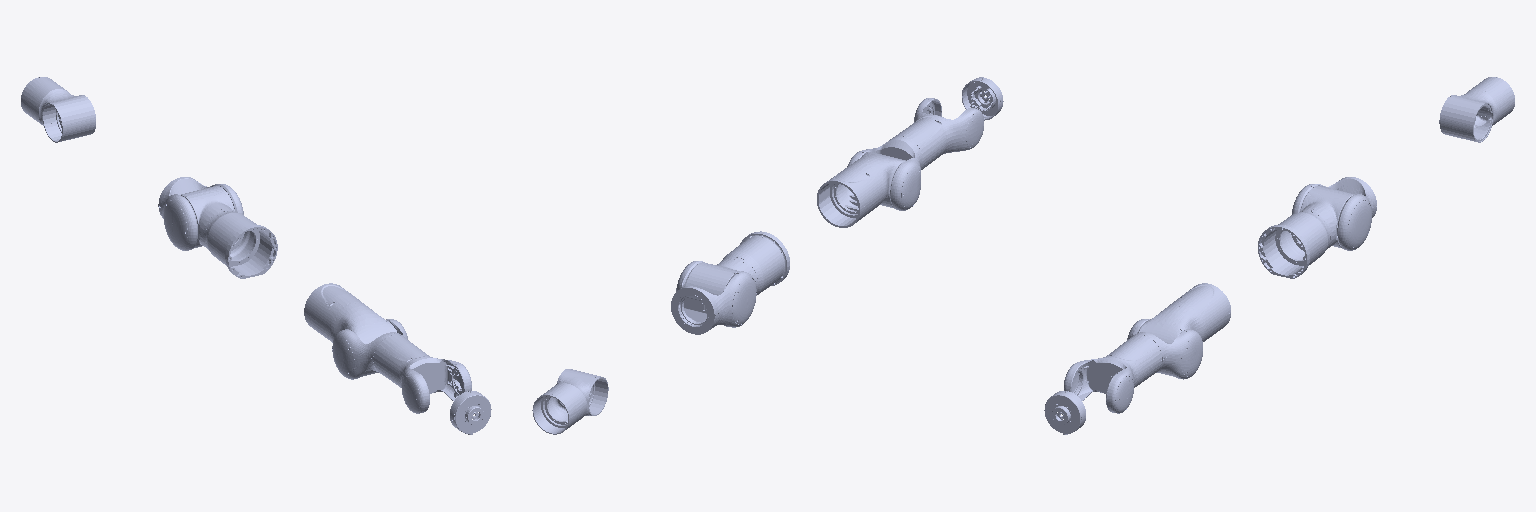
robot.urdf — codroidRobot:
<?xml version="1.0" ?>
<!-- =================================================================================== -->
<!-- |    This document was autogenerated by xacro from dualarm.xacro                  | -->
<!-- |    EDITING THIS FILE BY HAND IS NOT RECOMMENDED                                 | -->
<!-- =================================================================================== -->
<robot name="codroidRobot">
  <link name="world"/>
  <link name="left_base_link">
    <inertial>
      <origin rpy="0 0 0" xyz="-0.00008820 -0.00038610 0.06184223"/>
      <mass value="1.52097968"/>
      <inertia ixx="0.00236033" ixy="0.00000938" ixz=" 0.00001521" iyy="0.00236054" iyz="0.00002150" izz="0.00235699"/>
    </inertial>
    <visual>
      <origin rpy="0 0 0" xyz="0 0 0"/>
      <geometry>
        <mesh filename="package://meshes/left_base_link.STL"/>
      </geometry>
      <material name="">
        <color rgba="0.792156862745098 0.819607843137255 0.933333333333333 1"/>
      </material>
    </visual>
    <collision>
      <origin rpy="0 0 0" xyz="0 0 0"/>
      <geometry>
        <mesh filename="package://meshes/left_base_link.STL"/>
      </geometry>
    </collision>
  </link>
  <link name="left_j1_Link">
    <inertial>
      <origin rpy="0 0 0" xyz=" 0.00000829 0.00244409 -0.02871310"/>
      <mass value="2.47278909"/>
      <inertia ixx="0.00811676" ixy="0.00000215" ixz="-0.00000452" iyy="0.00792991" iyz="0.00017343" izz="0.00374035"/>
    </inertial>
    <visual>
      <origin rpy="0 0 0" xyz="0 0 0"/>
      <geometry>
        <mesh filename="package://meshes/left_j1_Link.STL"/>
      </geometry>
      <material name="">
        <color rgba="0.792156862745098 0.819607843137255 0.933333333333333 1"/>
      </material>
    </visual>
    <collision>
      <origin rpy="0 0 0" xyz="0 0 0"/>
      <geometry>
        <mesh filename="package://meshes/left_j1_Link.STL"/>
      </geometry>
    </collision>
  </link>
  <joint name="left_j1_joint" type="revolute">
    <origin rpy="0 0 0" xyz="0 0 0.195"/>
    <parent link="left_base_link"/>
    <child link="left_j1_Link"/>
    <axis xyz="0 0 1"/>
    <limit effort="0" lower="-3.14" upper="3.14" velocity="0"/>
  </joint>
  <link name="left_j2_Link">
    <inertial>
      <origin rpy="0 0 0" xyz="-0.00001066 0.03722263 -0.01797017"/>
      <mass value="1.41019774"/>
      <inertia ixx="0.00596565" ixy="0.00000102" ixz="0.00000029" iyy="0.00274196" iyz="0.00096784" izz="0.00467860"/>
    </inertial>
    <visual>
      <origin rpy="0 0 0" xyz="0 0 0"/>
      <geometry>
        <mesh filename="package://meshes/left_j2_Link.STL"/>
      </geometry>
      <material name="">
        <color rgba="0.792156862745098 0.819607843137255 0.933333333333333 1"/>
      </material>
    </visual>
    <collision>
      <origin rpy="0 0 0" xyz="0 0 0"/>
      <geometry>
        <mesh filename="package://meshes/left_j2_Link.STL"/>
      </geometry>
    </collision>
  </link>
  <joint name="left_j2_joint" type="revolute">
    <origin rpy="1.5708 0 0" xyz="0 0 0"/>
    <parent link="left_j1_Link"/>
    <child link="left_j2_Link"/>
    <axis xyz="0 0 1"/>
    <limit effort="0" lower="-2.093" upper="2.093" velocity="0"/>
  </joint>
  <link name="left_j3_Link">
    <inertial>
      <origin rpy="0 0 0" xyz="0.00883026 0.00178965 -0.06470772"/>
      <mass value="3.09939936"/>
      <inertia ixx="0.01707605" ixy="0.00005749" ixz=" 0.00183527" iyy="0.01721916" iyz="0.00032649" izz="0.00456819"/>
    </inertial>
    <visual>
      <origin rpy="0 0 0" xyz="0 0 0"/>
      <geometry>
        <mesh filename="package://meshes/left_j3_Link.STL"/>
      </geometry>
      <material name="">
        <color rgba="0.792156862745098 0.819607843137255 0.933333333333333 1"/>
      </material>
    </visual>
    <collision>
      <origin rpy="0 0 0" xyz="0 0 0"/>
      <geometry>
        <mesh filename="package://meshes/left_j3_Link.STL"/>
      </geometry>
    </collision>
  </link>
  <joint name="left_j3_joint" type="revolute">
    <origin rpy="-1.5708 0 0" xyz="0 0.2725 0"/>
    <parent link="left_j2_Link"/>
    <child link="left_j3_Link"/>
    <axis xyz="0 0 1"/>
    <limit effort="0" lower="-3.14" upper="3.14" velocity="0"/>
  </joint>
  <link name="left_j4_Link">
    <inertial>
      <origin rpy="0 0 0" xyz="-0.00971323 0.03818436 -0.00798875"/>
      <mass value="0.98368730"/>
      <inertia ixx="0.00339258" ixy="-0.00037292" ixz="-0.00007746" iyy="0.00197076" iyz="0.00030620" izz="0.00242521"/>
    </inertial>
    <visual>
      <origin rpy="0 0 0" xyz="0 0 0"/>
      <geometry>
        <mesh filename="package://meshes/left_j4_Link.STL"/>
      </geometry>
      <material name="">
        <color rgba="0.792156862745098 0.819607843137255 0.933333333333333 1"/>
      </material>
    </visual>
    <collision>
      <origin rpy="0 0 0" xyz="0 0 0"/>
      <geometry>
        <mesh filename="package://meshes/left_j4_Link.STL"/>
      </geometry>
    </collision>
  </link>
  <joint name="left_j4_joint" type="revolute">
    <origin rpy="1.5708 0 0" xyz="0.02 0 0"/>
    <parent link="left_j3_Link"/>
    <child link="left_j4_Link"/>
    <axis xyz="0 0 1"/>
    <limit effort="0" lower="-2.5294" upper="1.046" velocity="0"/>
  </joint>
  <link name="left_j5_Link">
    <inertial>
      <origin rpy="0 0 0" xyz="-0.00002916 0.00651937 -0.09265504"/>
      <mass value=" 1.45243657"/>
      <inertia ixx="0.00706280" ixy="0.00000071" ixz="-0.00000147" iyy="0.00641601" iyz="0.00095795" izz="0.00205038"/>
    </inertial>
    <visual>
      <origin rpy="0 0 0" xyz="0 0 0"/>
      <geometry>
        <mesh filename="package://meshes/left_j5_Link.STL"/>
      </geometry>
      <material name="">
        <color rgba="0.792156862745098 0.819607843137255 0.933333333333333 1"/>
      </material>
    </visual>
    <collision>
      <origin rpy="0 0 0" xyz="0 0 0"/>
      <geometry>
        <mesh filename="package://meshes/left_j5_Link.STL"/>
      </geometry>
    </collision>
  </link>
  <joint name="left_j5_joint" type="revolute">
    <origin rpy="-1.5708 0 0" xyz="-0.02 0.2596 0"/>
    <parent link="left_j4_Link"/>
    <child link="left_j5_Link"/>
    <axis xyz="0 0 1"/>
    <limit effort="0" lower="-3.14" upper="3.14" velocity="0"/>
  </joint>
  <link name="left_j6_Link">
    <inertial>
      <origin rpy="0 0 0" xyz=" -0.00085791 -0.04359160 0.00242243"/>
      <mass value="1.79923073"/>
      <inertia ixx="0.00549869" ixy="-0.00000933" ixz="0.00000896" iyy="0.00194083" iyz="0.00017593" izz="0.00523894"/>
    </inertial>
    <visual>
      <origin rpy="0 0 0" xyz="0 0 0"/>
      <geometry>
        <mesh filename="package://meshes/left_j6_Link.STL"/>
      </geometry>
      <material name="">
        <color rgba="0.792156862745098 0.819607843137255 0.933333333333333 1"/>
      </material>
    </visual>
    <collision>
      <origin rpy="0 0 0" xyz="0 0 0"/>
      <geometry>
        <mesh filename="package://meshes/left_j6_Link.STL"/>
      </geometry>
    </collision>
  </link>
  <joint name="left_j6_joint" type="revolute">
    <origin rpy="-1.5708 0 0" xyz="0 0 0"/>
    <parent link="left_j5_Link"/>
    <child link="left_j6_Link"/>
    <axis xyz="0 0 1"/>
    <limit effort="0" lower="-1.74" upper="1.74" velocity="0"/>
  </joint>
  <link name="left_j7_Link">
    <inertial>
      <origin rpy="0 0 0" xyz="0.00004614 -0.00011426 -0.02786989"/>
      <mass value="0.35714747"/>
      <inertia ixx="0.00018241" ixy="0.00000145" ixz="-0.00000015" iyy="0.00018443" iyz=" -0.00000032" izz="0.00021747"/>
    </inertial>
    <visual>
      <origin rpy="0 0 0" xyz="0 0 0"/>
      <geometry>
        <mesh filename="package://meshes/left_j7_Link.STL"/>
      </geometry>
      <material name="">
        <color rgba="0.792156862745098 0.819607843137255 0.933333333333333 1"/>
      </material>
    </visual>
    <collision>
      <origin rpy="0 0 0" xyz="0 0 0"/>
      <geometry>
        <mesh filename="package://meshes/left_j7_Link.STL"/>
      </geometry>
    </collision>
  </link>
  <joint name="left_j7_joint" type="revolute">
    <origin rpy="1.5708 0 0" xyz="0 -0.1539 0"/>
    <parent link="left_j6_Link"/>
    <child link="left_j7_Link"/>
    <axis xyz="0 0 1"/>
    <limit effort="0" lower="-3.14" upper="3.14" velocity="0"/>
  </joint>
  <link name="right_base_link">
    <inertial>
      <origin rpy="0 0 0" xyz="-0.00008820 -0.00038610 0.06184223"/>
      <mass value="1.52097968"/>
      <inertia ixx="0.00236033" ixy="0.00000938" ixz=" 0.00001521" iyy="0.00236054" iyz="0.00002150" izz="0.00235699"/>
    </inertial>
    <visual>
      <origin rpy="0 0 0" xyz="0 0 0"/>
      <geometry>
        <mesh filename="package://meshes/right_base_link.STL"/>
      </geometry>
      <material name="">
        <color rgba="0.792156862745098 0.819607843137255 0.933333333333333 1"/>
      </material>
    </visual>
    <collision>
      <origin rpy="0 0 0" xyz="0 0 0"/>
      <geometry>
        <mesh filename="package://meshes/right_base_link.STL"/>
      </geometry>
    </collision>
  </link>
  <link name="right_j1_Link">
    <inertial>
      <origin rpy="0 0 0" xyz=" 0.00000829 0.00244409 -0.02871310"/>
      <mass value="2.47278909"/>
      <inertia ixx="0.00811676" ixy="0.00000215" ixz="-0.00000452" iyy="0.00792991" iyz="0.00017343" izz="0.00374035"/>
    </inertial>
    <visual>
      <origin rpy="0 0 0" xyz="0 0 0"/>
      <geometry>
        <mesh filename="package://meshes/right_j1_Link.STL"/>
      </geometry>
      <material name="">
        <color rgba="0.792156862745098 0.819607843137255 0.933333333333333 1"/>
      </material>
    </visual>
    <collision>
      <origin rpy="0 0 0" xyz="0 0 0"/>
      <geometry>
        <mesh filename="package://meshes/right_j1_Link.STL"/>
      </geometry>
    </collision>
  </link>
  <joint name="right_j1_joint" type="revolute">
    <origin rpy="0 0 0" xyz="0 0 0.195"/>
    <parent link="right_base_link"/>
    <child link="right_j1_Link"/>
    <axis xyz="0 0 1"/>
    <limit effort="0" lower="-3.14" upper="3.14" velocity="0"/>
  </joint>
  <link name="right_j2_Link">
    <inertial>
      <origin rpy="0 0 0" xyz="-0.00001066 0.03722263 -0.01797017"/>
      <mass value="1.41019774"/>
      <inertia ixx="0.00596565" ixy="0.00000102" ixz="0.00000029" iyy="0.00274196" iyz="0.00096784" izz="0.00467860"/>
    </inertial>
    <visual>
      <origin rpy="0 0 0" xyz="0 0 0"/>
      <geometry>
        <mesh filename="package://meshes/right_j2_Link.STL"/>
      </geometry>
      <material name="">
        <color rgba="0.792156862745098 0.819607843137255 0.933333333333333 1"/>
      </material>
    </visual>
    <collision>
      <origin rpy="0 0 0" xyz="0 0 0"/>
      <geometry>
        <mesh filename="package://meshes/right_j2_Link.STL"/>
      </geometry>
    </collision>
  </link>
  <joint name="right_j2_joint" type="revolute">
    <origin rpy="1.5708 0 0" xyz="0 0 0"/>
    <parent link="right_j1_Link"/>
    <child link="right_j2_Link"/>
    <axis xyz="0 0 1"/>
    <limit effort="0" lower="-2.093" upper="2.093" velocity="0"/>
  </joint>
  <link name="right_j3_Link">
    <inertial>
      <origin rpy="0 0 0" xyz="0.00883026 0.00178965 -0.06470772"/>
      <mass value="3.09939936"/>
      <inertia ixx="0.01707605" ixy="0.00005749" ixz=" 0.00183527" iyy="0.01721916" iyz="0.00032649" izz="0.00456819"/>
    </inertial>
    <visual>
      <origin rpy="0 0 0" xyz="0 0 0"/>
      <geometry>
        <mesh filename="package://meshes/right_j3_Link.STL"/>
      </geometry>
      <material name="">
        <color rgba="0.792156862745098 0.819607843137255 0.933333333333333 1"/>
      </material>
    </visual>
    <collision>
      <origin rpy="0 0 0" xyz="0 0 0"/>
      <geometry>
        <mesh filename="package://meshes/right_j3_Link.STL"/>
      </geometry>
    </collision>
  </link>
  <joint name="right_j3_joint" type="revolute">
    <origin rpy="-1.5708 0 0" xyz="0 0.2725 0"/>
    <parent link="right_j2_Link"/>
    <child link="right_j3_Link"/>
    <axis xyz="0 0 1"/>
    <limit effort="0" lower="-3.14" upper="3.14" velocity="0"/>
  </joint>
  <link name="right_j4_Link">
    <inertial>
      <origin rpy="0 0 0" xyz="-0.00971323 0.03818436 -0.00798875"/>
      <mass value="0.98368730"/>
      <inertia ixx="0.00339258" ixy="-0.00037292" ixz="-0.00007746" iyy="0.00197076" iyz="0.00030620" izz="0.00242521"/>
    </inertial>
    <visual>
      <origin rpy="0 0 0" xyz="0 0 0"/>
      <geometry>
        <mesh filename="package://meshes/right_j4_Link.STL"/>
      </geometry>
      <material name="">
        <color rgba="0.792156862745098 0.819607843137255 0.933333333333333 1"/>
      </material>
    </visual>
    <collision>
      <origin rpy="0 0 0" xyz="0 0 0"/>
      <geometry>
        <mesh filename="package://meshes/right_j4_Link.STL"/>
      </geometry>
    </collision>
  </link>
  <joint name="right_j4_joint" type="revolute">
    <origin rpy="1.5708 0 0" xyz="0.02 0 0"/>
    <parent link="right_j3_Link"/>
    <child link="right_j4_Link"/>
    <axis xyz="0 0 1"/>
    <limit effort="0" lower="-2.5294" upper="1.046" velocity="0"/>
  </joint>
  <link name="right_j5_Link">
    <inertial>
      <origin rpy="0 0 0" xyz="-0.00002916 0.00651937 -0.09265504"/>
      <mass value=" 1.45243657"/>
      <inertia ixx="0.00706280" ixy="0.00000071" ixz="-0.00000147" iyy="0.00641601" iyz="0.00095795" izz="0.00205038"/>
    </inertial>
    <visual>
      <origin rpy="0 0 0" xyz="0 0 0"/>
      <geometry>
        <mesh filename="package://meshes/right_j5_Link.STL"/>
      </geometry>
      <material name="">
        <color rgba="0.792156862745098 0.819607843137255 0.933333333333333 1"/>
      </material>
    </visual>
    <collision>
      <origin rpy="0 0 0" xyz="0 0 0"/>
      <geometry>
        <mesh filename="package://meshes/right_j5_Link.STL"/>
      </geometry>
    </collision>
  </link>
  <joint name="right_j5_joint" type="revolute">
    <origin rpy="-1.5708 0 0" xyz="-0.02 0.2596 0"/>
    <parent link="right_j4_Link"/>
    <child link="right_j5_Link"/>
    <axis xyz="0 0 1"/>
    <limit effort="0" lower="-3.14" upper="3.14" velocity="0"/>
  </joint>
  <link name="right_j6_Link">
    <inertial>
      <origin rpy="0 0 0" xyz=" -0.00085791 -0.04359160 0.00242243"/>
      <mass value="1.79923073"/>
      <inertia ixx="0.00549869" ixy="-0.00000933" ixz="0.00000896" iyy="0.00194083" iyz="0.00017593" izz="0.00523894"/>
    </inertial>
    <visual>
      <origin rpy="0 0 0" xyz="0 0 0"/>
      <geometry>
        <mesh filename="package://meshes/right_j6_Link.STL"/>
      </geometry>
      <material name="">
        <color rgba="0.792156862745098 0.819607843137255 0.933333333333333 1"/>
      </material>
    </visual>
    <collision>
      <origin rpy="0 0 0" xyz="0 0 0"/>
      <geometry>
        <mesh filename="package://meshes/right_j6_Link.STL"/>
      </geometry>
    </collision>
  </link>
  <joint name="right_j6_joint" type="revolute">
    <origin rpy="-1.5708 0 0" xyz="0 0 0"/>
    <parent link="right_j5_Link"/>
    <child link="right_j6_Link"/>
    <axis xyz="0 0 1"/>
    <limit effort="0" lower="-1.74" upper="1.74" velocity="0"/>
  </joint>
  <link name="right_j7_Link">
    <inertial>
      <origin rpy="0 0 0" xyz="0.00004614 -0.00011426 -0.02786989"/>
      <mass value="0.35714747"/>
      <inertia ixx="0.00018241" ixy="0.00000145" ixz="-0.00000015" iyy="0.00018443" iyz=" -0.00000032" izz="0.00021747"/>
    </inertial>
    <visual>
      <origin rpy="0 0 0" xyz="0 0 0"/>
      <geometry>
        <mesh filename="package://meshes/right_j7_Link.STL"/>
      </geometry>
      <material name="">
        <color rgba="0.792156862745098 0.819607843137255 0.933333333333333 1"/>
      </material>
    </visual>
    <collision>
      <origin rpy="0 0 0" xyz="0 0 0"/>
      <geometry>
        <mesh filename="package://meshes/right_j7_Link.STL"/>
      </geometry>
    </collision>
  </link>
  <joint name="right_j7_joint" type="revolute">
    <origin rpy="1.5708 0 0" xyz="0 -0.1539 0"/>
    <parent link="right_j6_Link"/>
    <child link="right_j7_Link"/>
    <axis xyz="0 0 1"/>
    <limit effort="0" lower="-3.14" upper="3.14" velocity="0"/>
  </joint>
  <joint name="arm_left_base" type="fixed">
    <origin rpy="1.57 1.57 0" xyz="0.0 0 0"/>
    <parent link="world"/>
    <child link="left_base_link"/>
  </joint>
  <joint name="arm_right_base" type="fixed">
    <origin rpy="-1.57 1.57 0" xyz="0.0 0 0"/>
    <parent link="world"/>
    <child link="right_base_link"/>
  </joint>
</robot>

--- Facts derived from the render (not from the file) ---
Views: 3 orthographic renders of the robot side by side, from view 1: azimuth 30°, elevation 25°; view 2: azimuth 150°, elevation 25°; view 3: azimuth 330°, elevation 25°.
Robot: codroidRobot — 17 links, 16 joints (14 revolute, 2 fixed); root link world; default pose: all joints at 0.
Visible links, largest first — view 1: left_j5_Link, right_base_link, left_j3_Link, right_j6_Link, right_j2_Link, left_j4_Link, right_j1_Link, left_j7_Link; view 2: left_j3_Link, right_j2_Link, right_j6_Link, left_j5_Link, left_j4_Link, right_base_link, right_j1_Link, left_j7_Link; view 3: left_j5_Link, right_base_link, right_j6_Link, left_j3_Link, right_j2_Link, left_j4_Link, right_j1_Link, left_j7_Link.
Boxes of the visible links, x1,y1,x2,y2 form: left_j5_Link: (373,335,471,413); right_base_link: (205,211,277,278); left_j3_Link: (304,283,396,376); right_j6_Link: (21,77,95,142); right_j2_Link: (158,177,243,250); left_j4_Link: (332,319,407,379); right_j1_Link: (181,186,244,250); left_j7_Link: (450,391,491,434); left_j3_Link: (817,152,905,227); right_j2_Link: (671,261,756,334); right_j6_Link: (532,369,608,434); left_j5_Link: (893,98,983,169); left_j4_Link: (847,136,922,210); right_base_link: (722,231,789,294); right_j1_Link: (686,257,757,295); left_j7_Link: (962,77,1003,120); left_j5_Link: (1064,335,1161,413); right_base_link: (1258,211,1329,278); right_j6_Link: (1439,77,1514,142); left_j3_Link: (1138,283,1230,376); right_j2_Link: (1292,177,1376,250); left_j4_Link: (1127,319,1202,379); right_j1_Link: (1292,186,1355,250); left_j7_Link: (1044,391,1085,434).
Bounding box of the posed robot: 0.1431 × 1.73 × 0.1268 m (x, y, z).
Meshes: 16 distinct files referenced, 8 mesh visuals loaded (8 binary STL); not drawn: 8 (reference not matched to a file when rendering).
